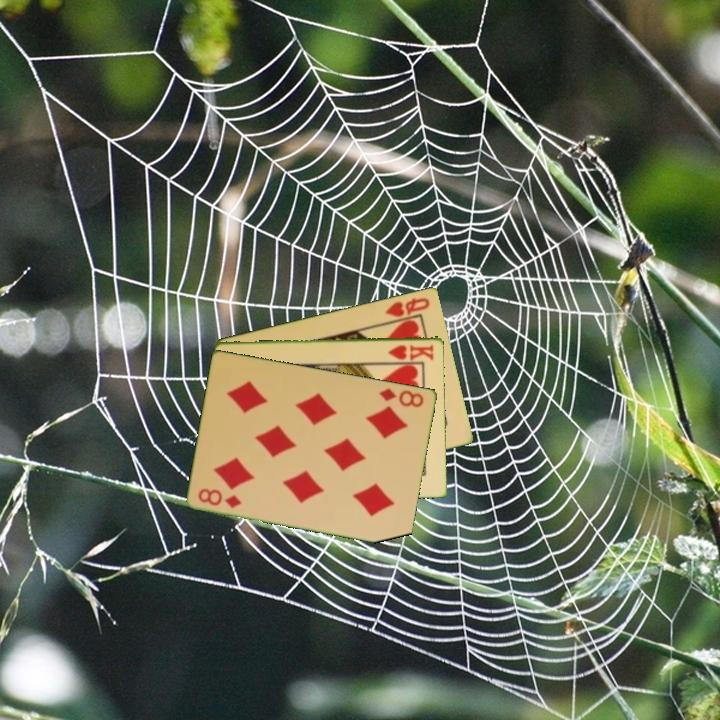8d: (195, 484, 245, 511), (376, 384, 427, 410)
Kh: (385, 341, 437, 362)
Qh: (382, 294, 433, 320)
